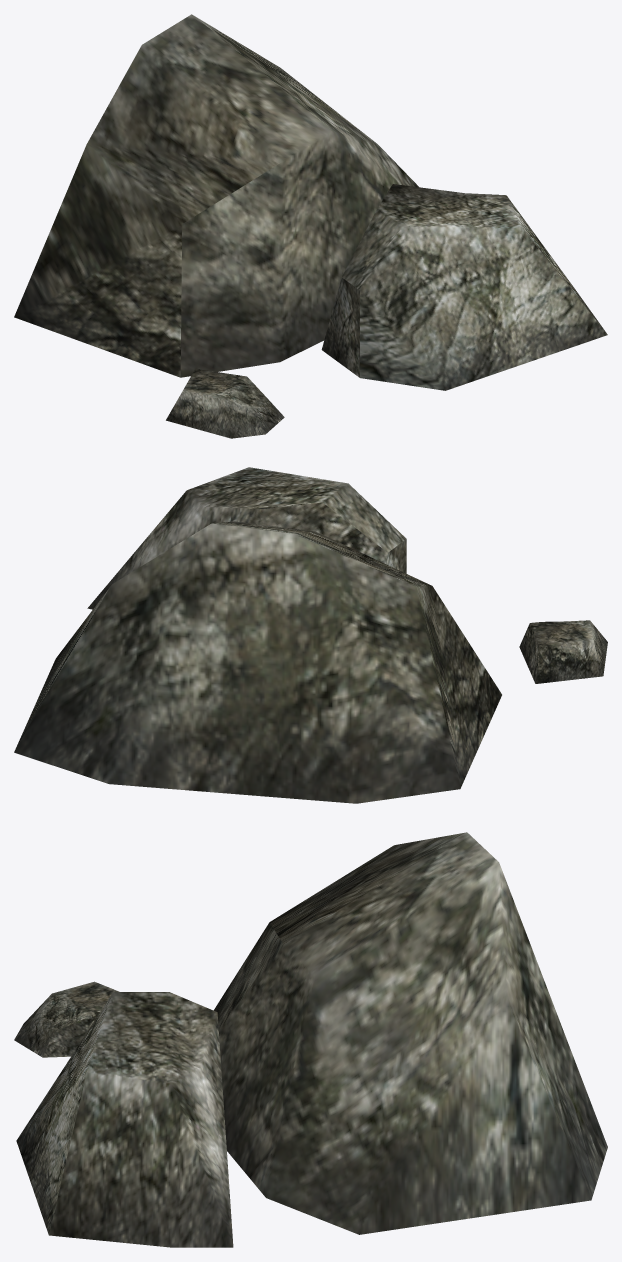
The model's file is doodad_rocks1.fbx.
3 renders of one model, top to bottom at view 1: azimuth 30°, elevation 25°; view 2: azimuth 150°, elevation 25°; view 3: azimuth 270°, elevation 25°, orthographic. The views are drawn at different scales.
Visible parts, largest first — view 1: polySurface1; view 2: polySurface1; view 3: polySurface1.
Boxes of the visible parts, left/top/right/bottom form: polySurface1: left=14, top=14, right=607, bottom=438; polySurface1: left=14, top=467, right=607, bottom=803; polySurface1: left=14, top=832, right=607, bottom=1247.
Size of the model in its own units: 2.83 by 1.39 by 2.9.
1 material, 1 textured.
